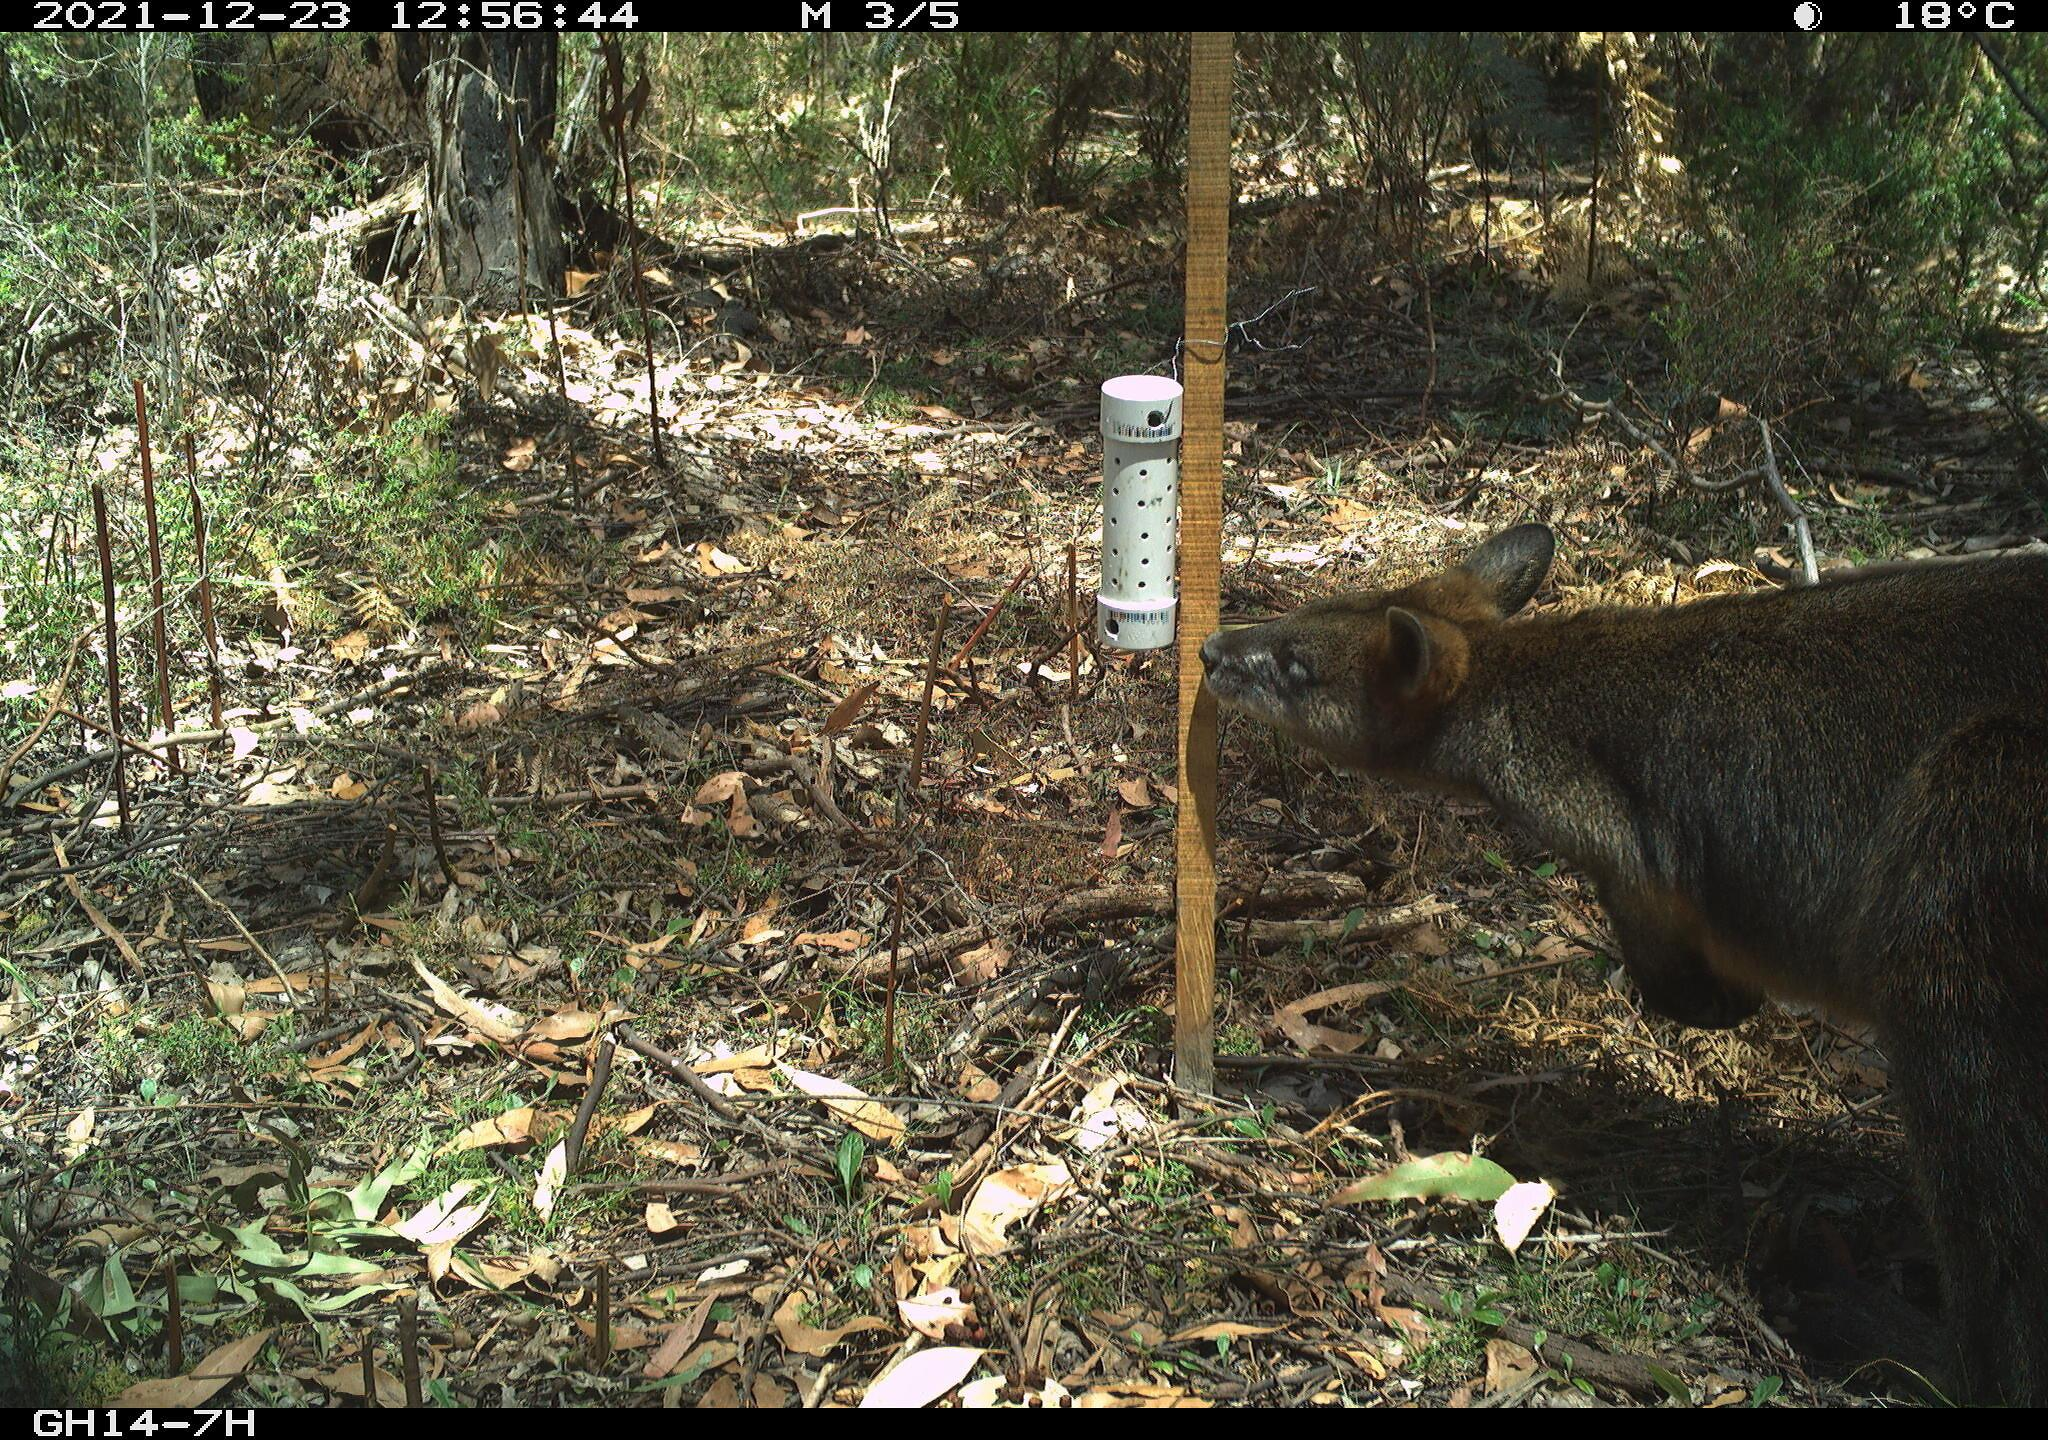Swamp wallaby: (1203, 527, 2048, 1407)
